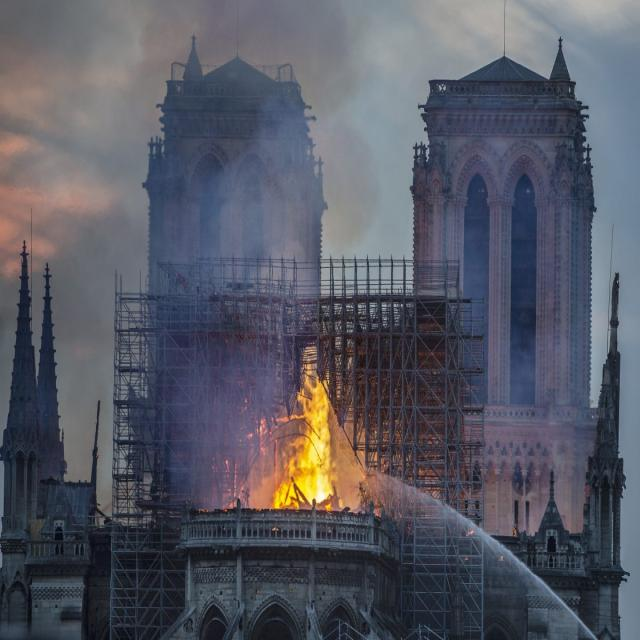fire: (284, 379, 337, 504)
